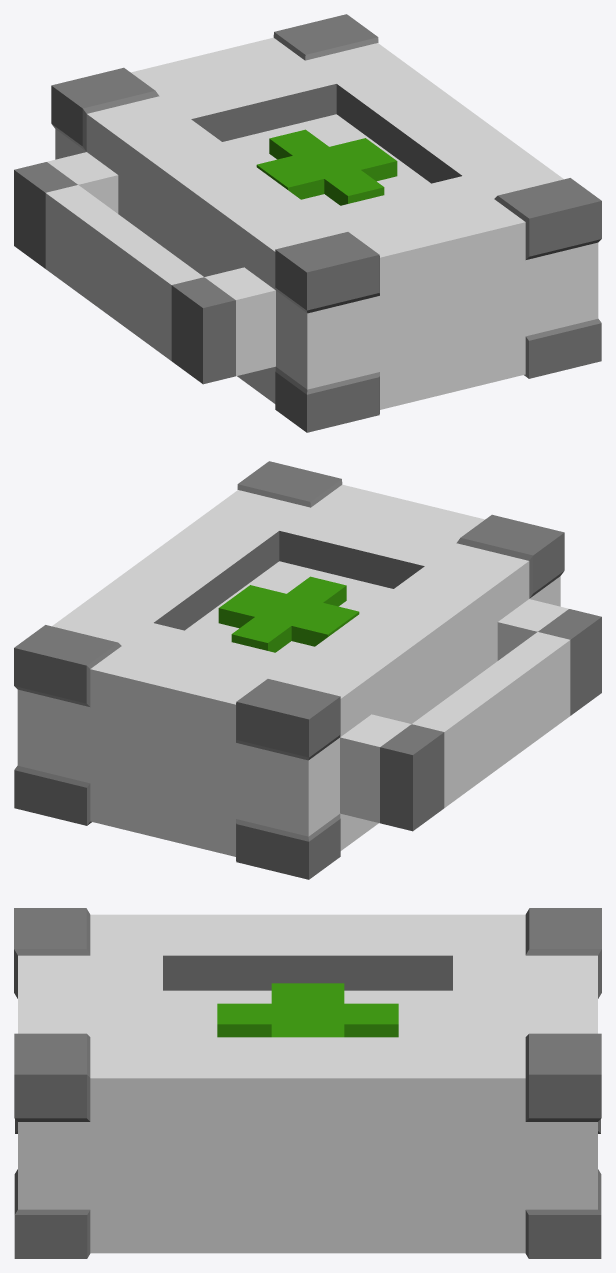
Rendered from HealthPack.fbx.
The picture shows the model from 3 angles, top to bottom: view 1: azimuth 30°, elevation 25°; view 2: azimuth 150°, elevation 25°; view 3: azimuth 270°, elevation 25°; orthographic projection. The views are drawn at different scales.
Visible parts, largest first — view 1: LeftHalf, RightHalf; view 2: RightHalf, LeftHalf; view 3: LeftHalf, RightHalf.
Part boxes in pixels (x1,y1,x2,y2): LeftHalf: [108, 112, 601, 432]; RightHalf: [14, 14, 471, 314]; RightHalf: [14, 559, 507, 879]; LeftHalf: [144, 461, 601, 761]; LeftHalf: [14, 908, 307, 1258]; RightHalf: [308, 908, 601, 1258].
Size of the model in its own units: 2.51 by 3.04 by 1.06.
